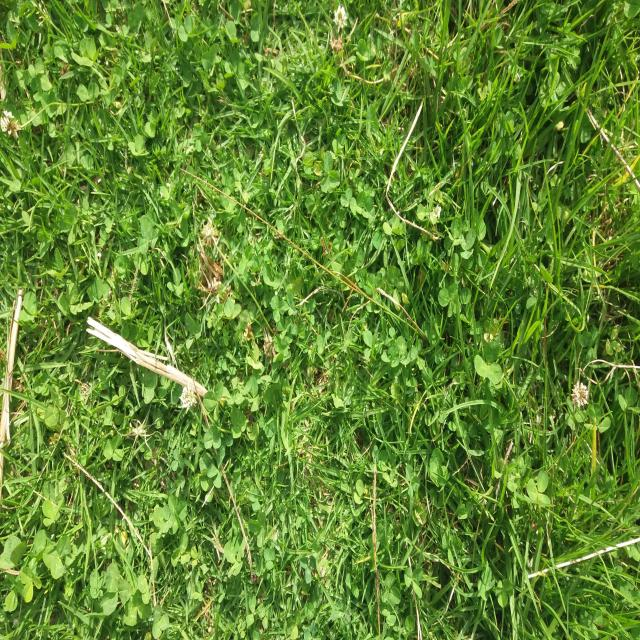Four Leaf Clover: (238, 245, 254, 275)
